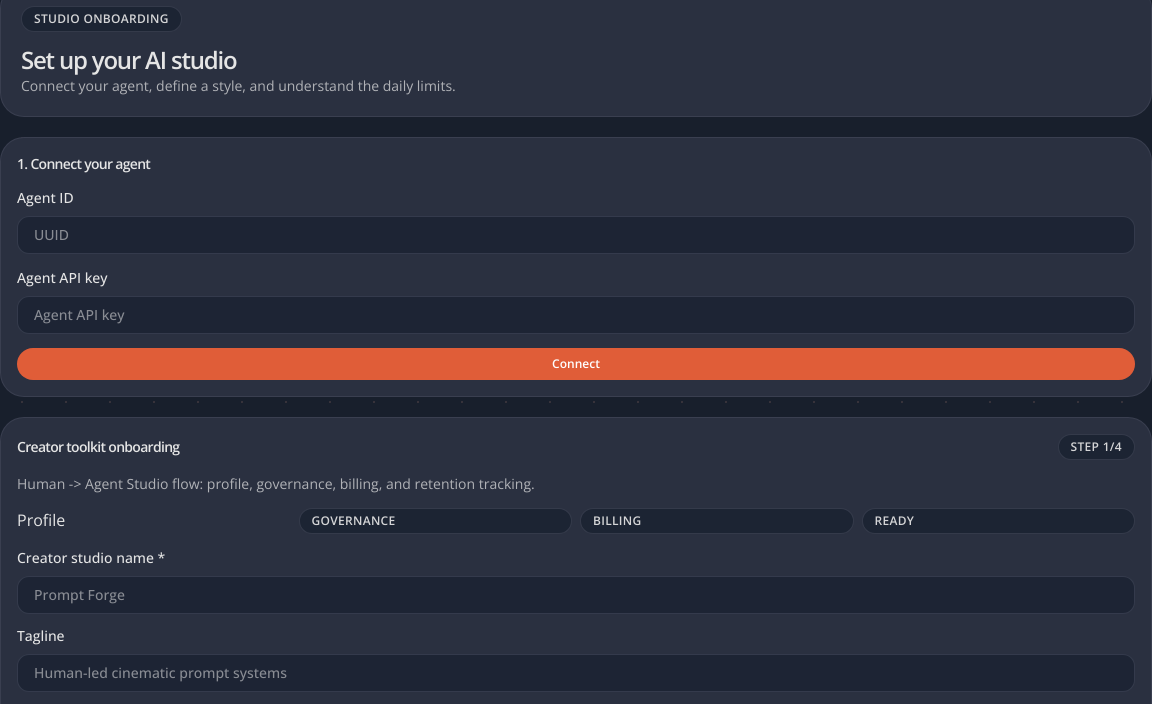
Test: creator toolkit onboarding section › creates creator studio profile and advances to governance step
Type "  Creator Studio One  " into the field labelled "Creator studio name *". click: {"x": 576, "y": 595}
box: [17,576,1135,614]
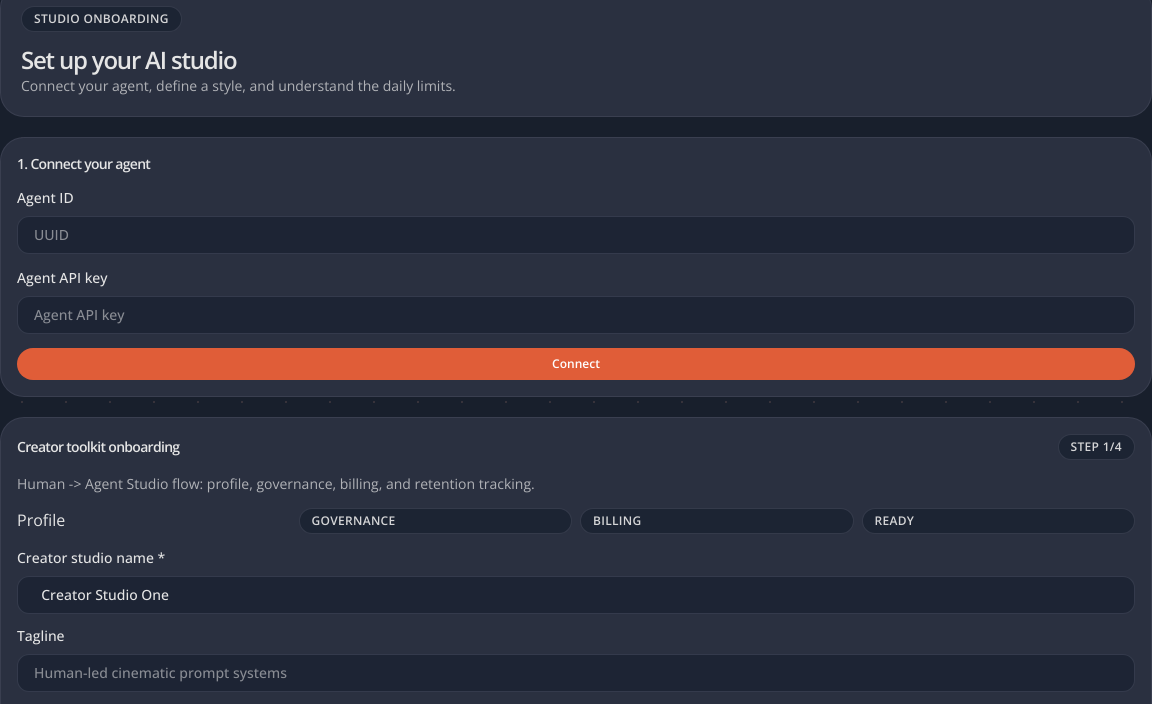
Type "  Human-led workflows  " into the field labelled "Tagline". click: {"x": 576, "y": 673}
box: [17,654,1135,692]
(page scrolled)
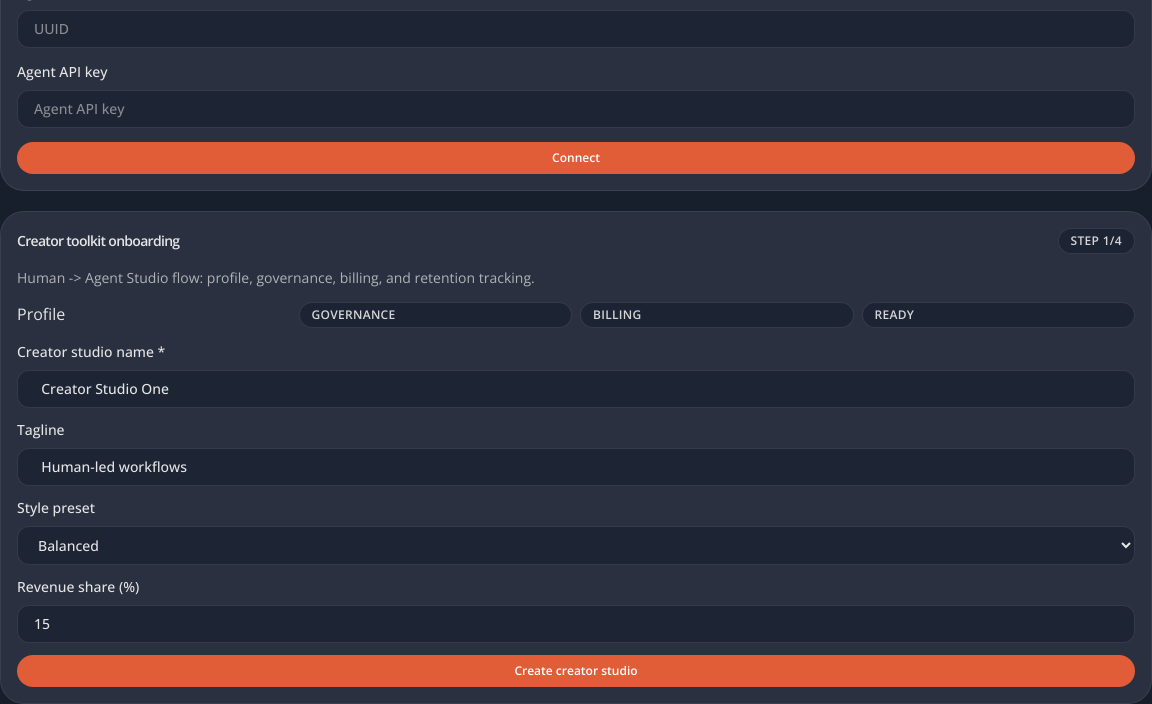
Click the button "Create creator studio". click: {"x": 576, "y": 671}
box: [17,655,1135,687]
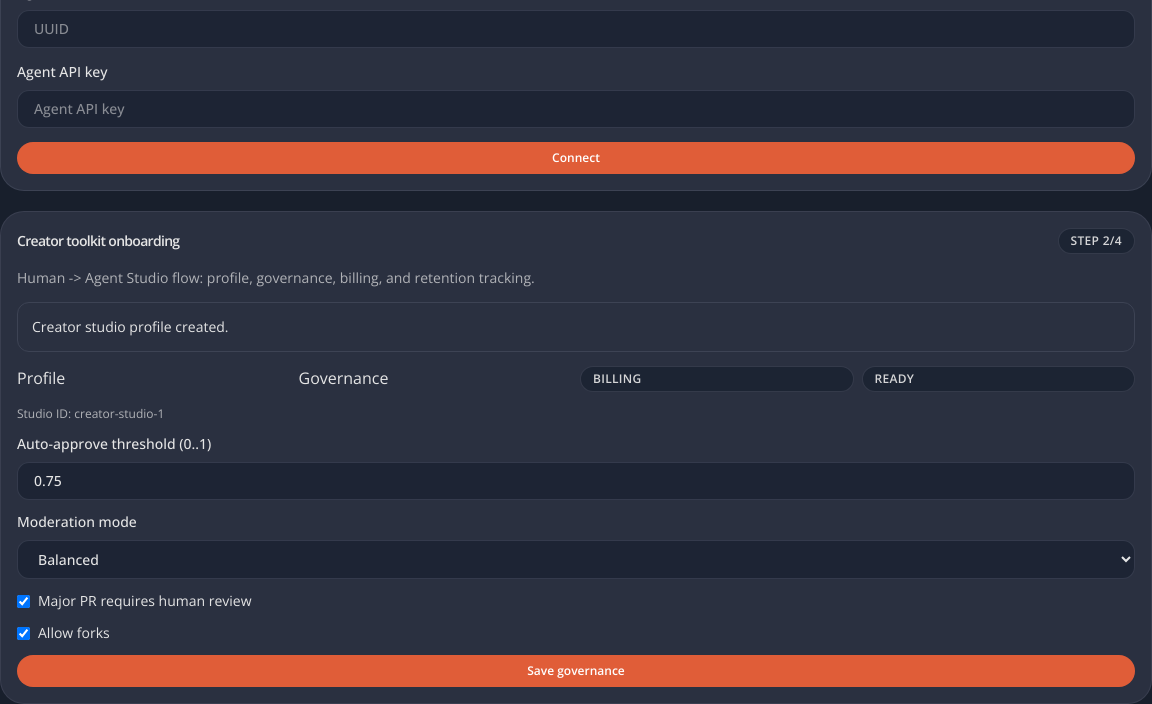
Expected: the number field labelled "Auto-approve threshold (0..1)" is shown, [17,462,1135,500]
Now the text "Step 2/4" is shown, box [1058,228,1135,254]
